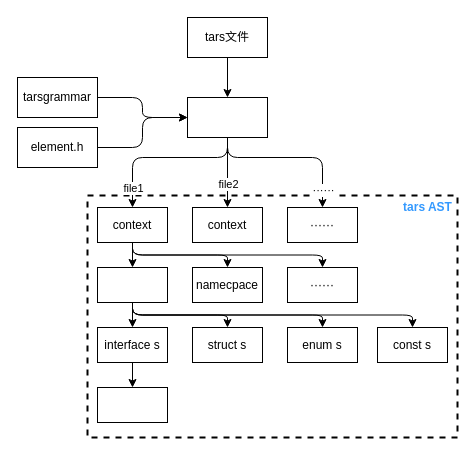
Some shapes in this 476 by 456 pixel diagram are drawn without their labels. The shapes that lost their labels are listed below. From the top down, each one's box as (x1, y1, x2, y2) in pixels, then its label:
(186, 96, 268, 138): tarsparse.h
(96, 266, 168, 302): namespace
(96, 386, 168, 422): operation s
